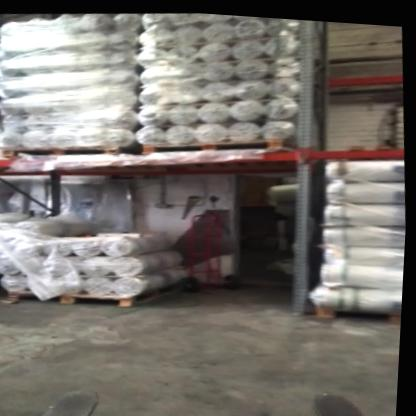vertical_damage: (289, 272, 330, 315)
